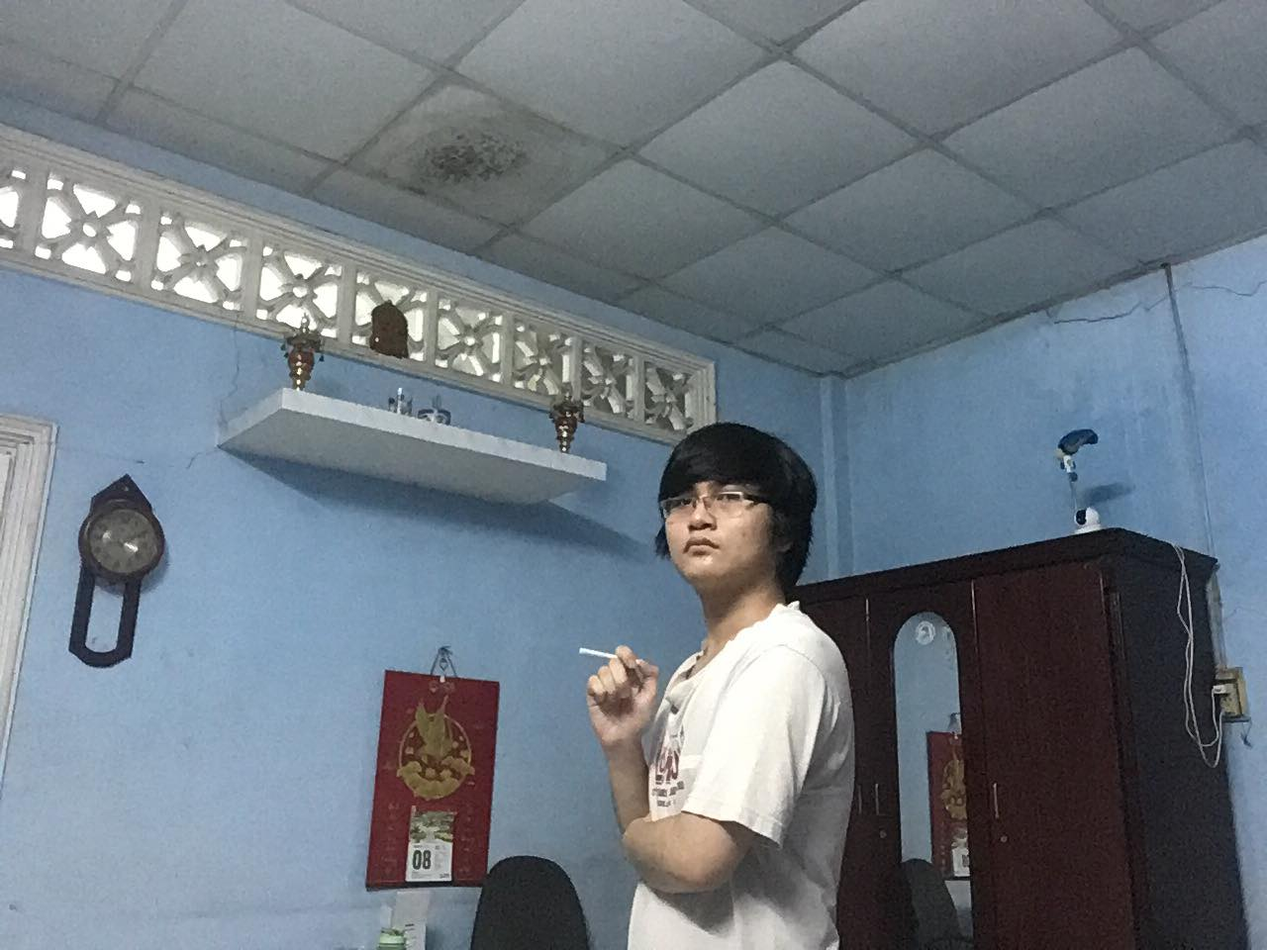cigarette: (575, 643, 618, 661)
person: (576, 423, 862, 948)
